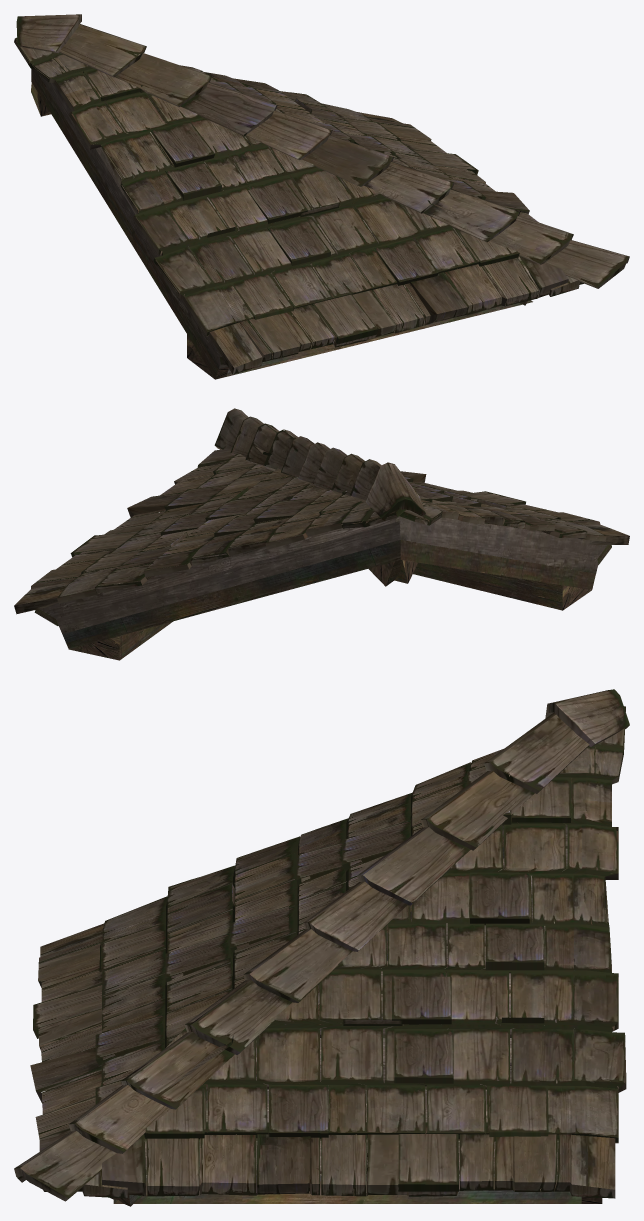
The picture shows the model from 3 angles, top to bottom: view 1: azimuth 30°, elevation 25°; view 2: azimuth 150°, elevation 25°; view 3: azimuth 270°, elevation 25°; orthographic projection. The views are drawn at different scales.
Visible parts, largest first — view 1: SM_T1_Roof_Large_Hip_Shallow_LOD0; view 2: SM_T1_Roof_Large_Hip_Shallow_LOD0; view 3: SM_T1_Roof_Large_Hip_Shallow_LOD0.
Boxes of the visible parts, x1,y1,x2,y2 form: SM_T1_Roof_Large_Hip_Shallow_LOD0: (14, 14, 629, 379); SM_T1_Roof_Large_Hip_Shallow_LOD0: (14, 408, 629, 660); SM_T1_Roof_Large_Hip_Shallow_LOD0: (14, 689, 629, 1206).
Size of the model in its own units: 3.79 by 2.14 by 3.79.
Materials: 3 (3 with a texture image).
